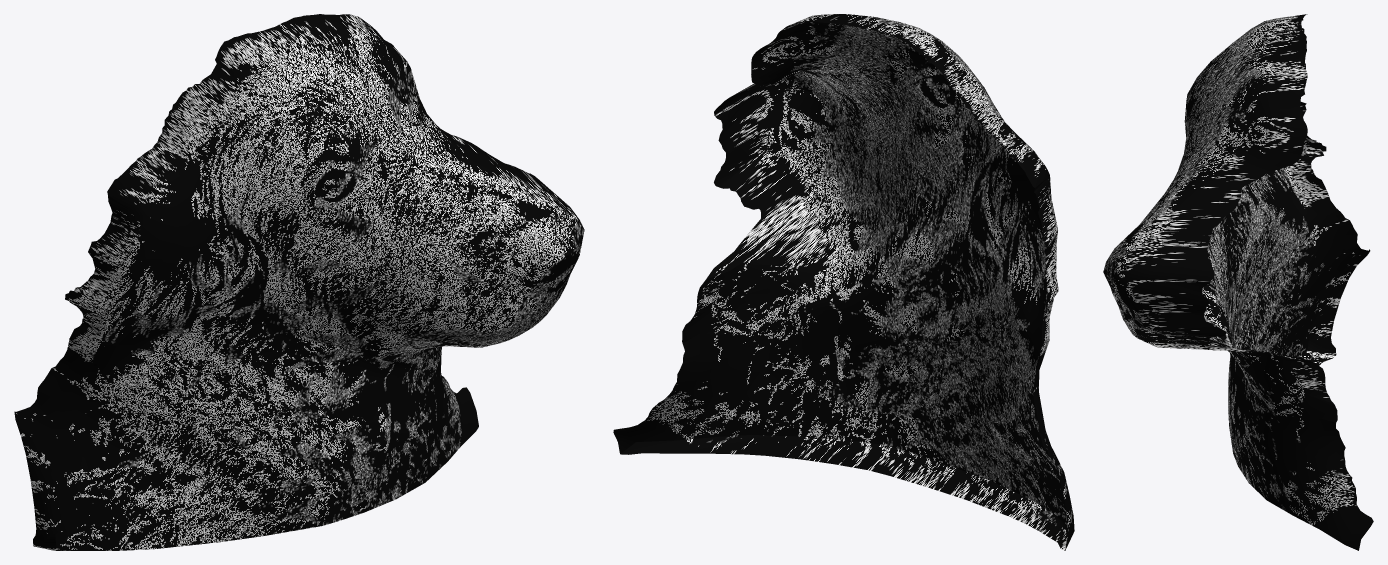
File: Engraving_1.glb
The picture shows the model from 3 angles, left to right: view 1: azimuth 30°, elevation 25°; view 2: azimuth 150°, elevation 25°; view 3: azimuth 270°, elevation 25°; orthographic projection. The views are drawn at different scales.
Parts seen in each view (by area): view 1: mesh; view 2: mesh; view 3: mesh.
Boxes of the visible parts, x1,y1,x2,y2 form: mesh: [14, 14, 584, 550]; mesh: [613, 14, 1074, 550]; mesh: [1103, 14, 1373, 550].
Size of the model in its own units: 0.0502 by 0.0505 by 0.0292.
Materials: 1 (1 with a texture image).
